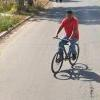bicycles: (50, 36, 83, 75)
